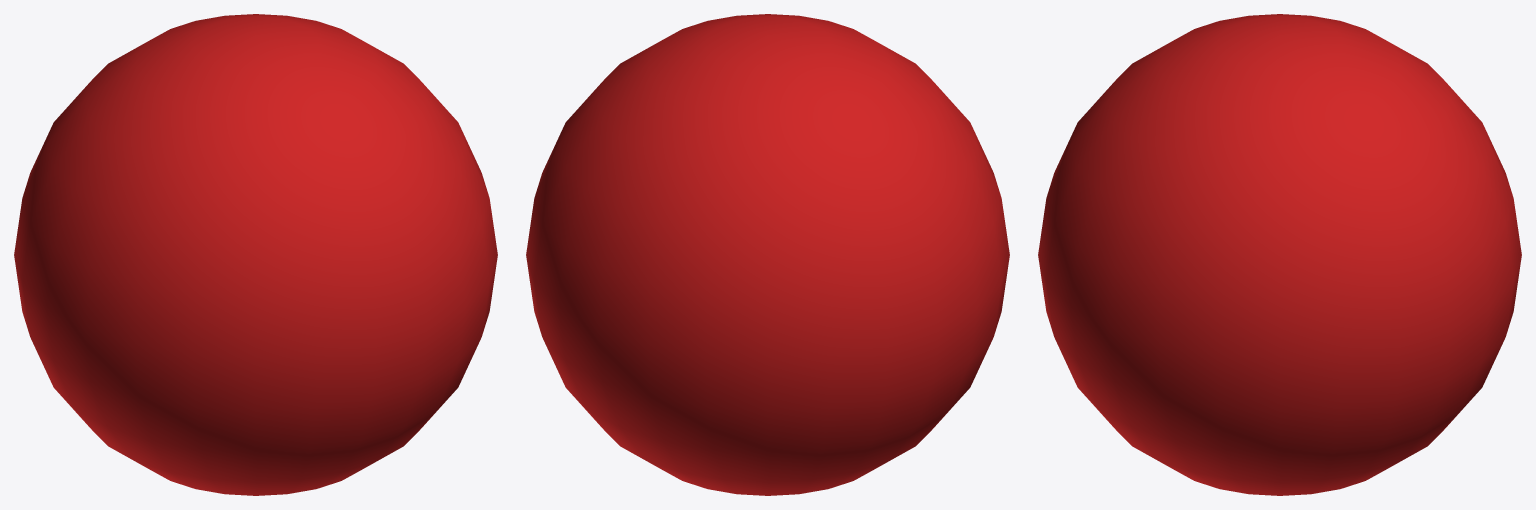
Rendered from Arena 2.fbx.
The picture shows the model from 3 angles, left to right: view 1: azimuth 30°, elevation 25°; view 2: azimuth 150°, elevation 25°; view 3: azimuth 270°, elevation 25°; orthographic projection.
Parts seen in each view (by area): view 1: Border; view 2: Border; view 3: Border.
Part boxes in pixels (x1,y1,x2,y2): Border: [14, 14, 497, 495]; Border: [526, 14, 1009, 495]; Border: [1038, 14, 1521, 495].
Bounding box in the file's own units: 200 × 200 × 200.
